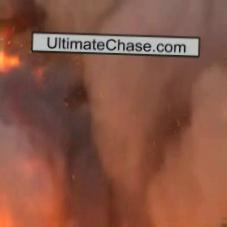fire: (0, 38, 22, 80)
